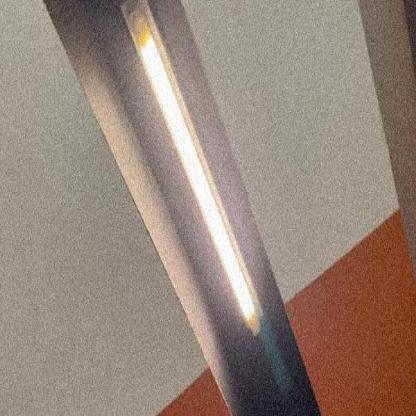light_on: (114, 0, 290, 354)
